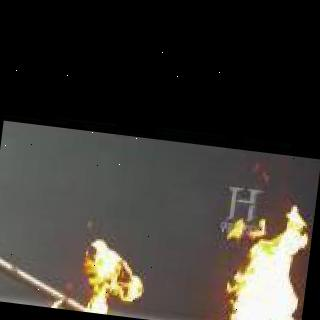fire: (176, 192, 307, 320), (32, 226, 146, 318)
